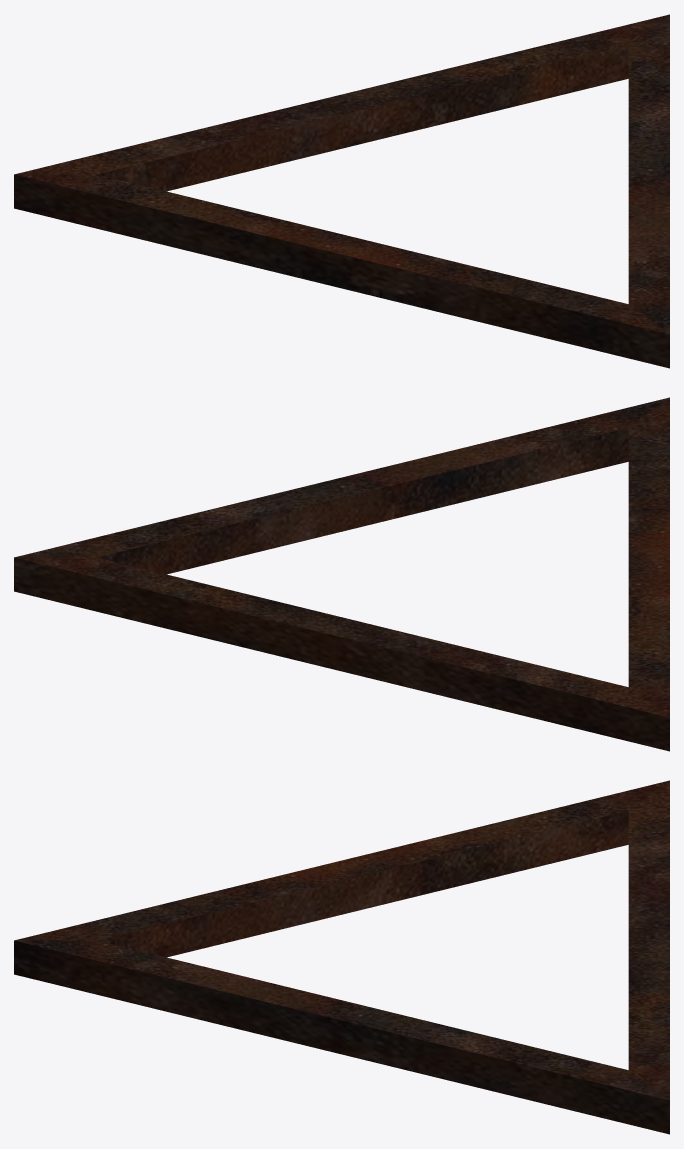
File: metal_floor_frame_triangle_textured.glb
3 views of the same model, one above another, from view 1: azimuth 30°, elevation 25°; view 2: azimuth 150°, elevation 25°; view 3: azimuth 270°, elevation 25° (orthographic).
Parts seen in each view (by area): view 1: Circle.001; view 2: Circle.001; view 3: Circle.001.
Part boxes in pixels (x1,y1,x2,y2): Circle.001: (14, 14, 669, 368); Circle.001: (14, 397, 669, 751); Circle.001: (14, 780, 669, 1134).
Size of the model in its own units: 1.96 by 0.0969 by 1.69.
Materials: 1 (1 with a texture image).
